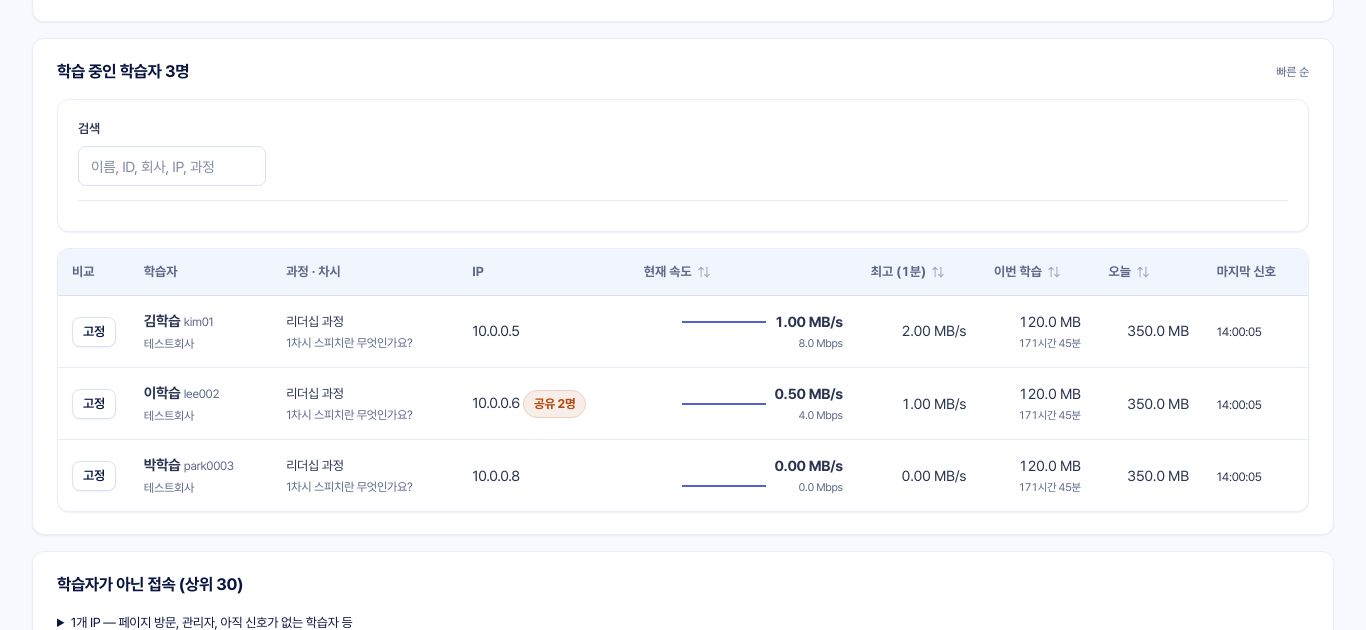
Test: 실시간 트래픽 page › pinning a learner asks for that learner’s series and replaces the automatic pick
The image size is (1366, 630).
(page scrolled)
Expected: the heading "학습 중인 학습자 3명" is shown, [57,61,189,83]
Click the button "고정" next to "박학습": (94, 476) [72,461,116,491]
(page scrolled)
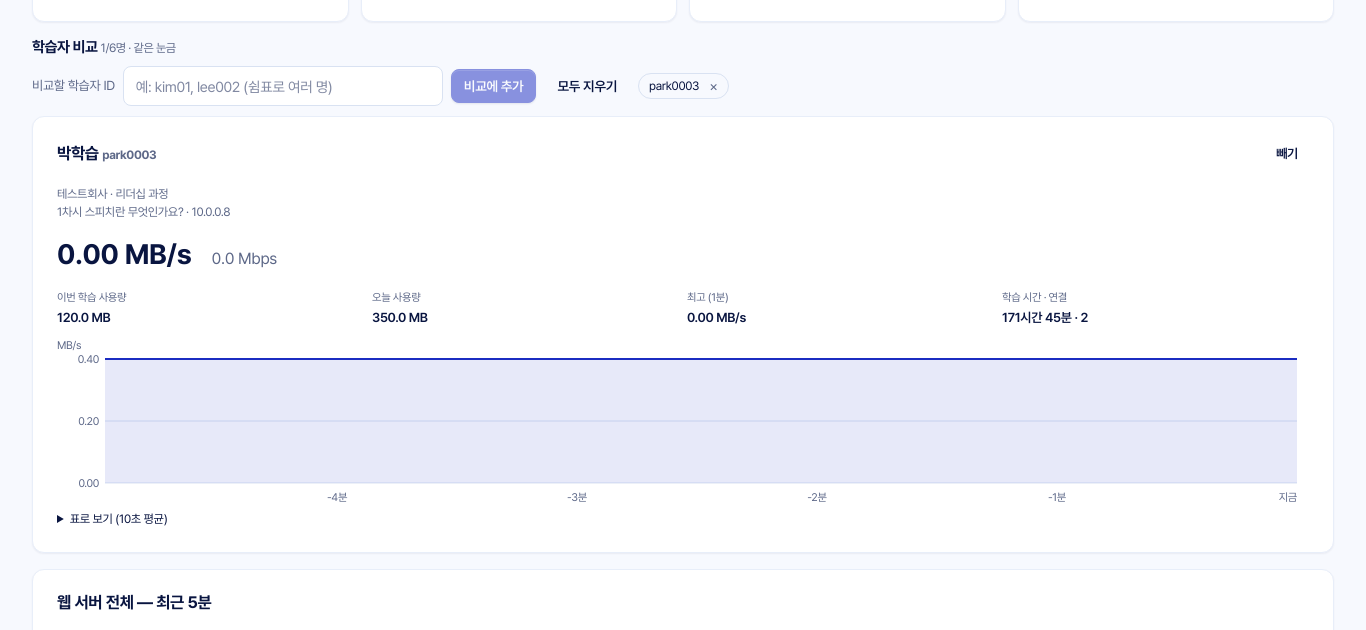
Expected: the picture named "박학습 최근 5분 전송 속도" is shown, [57,339,1309,509]
